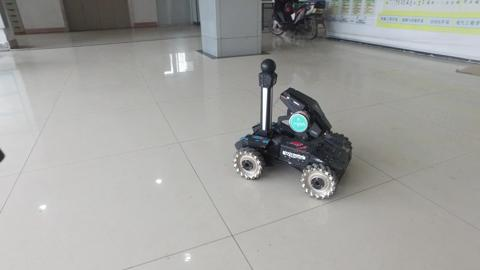chariot: (231, 57, 353, 200)
